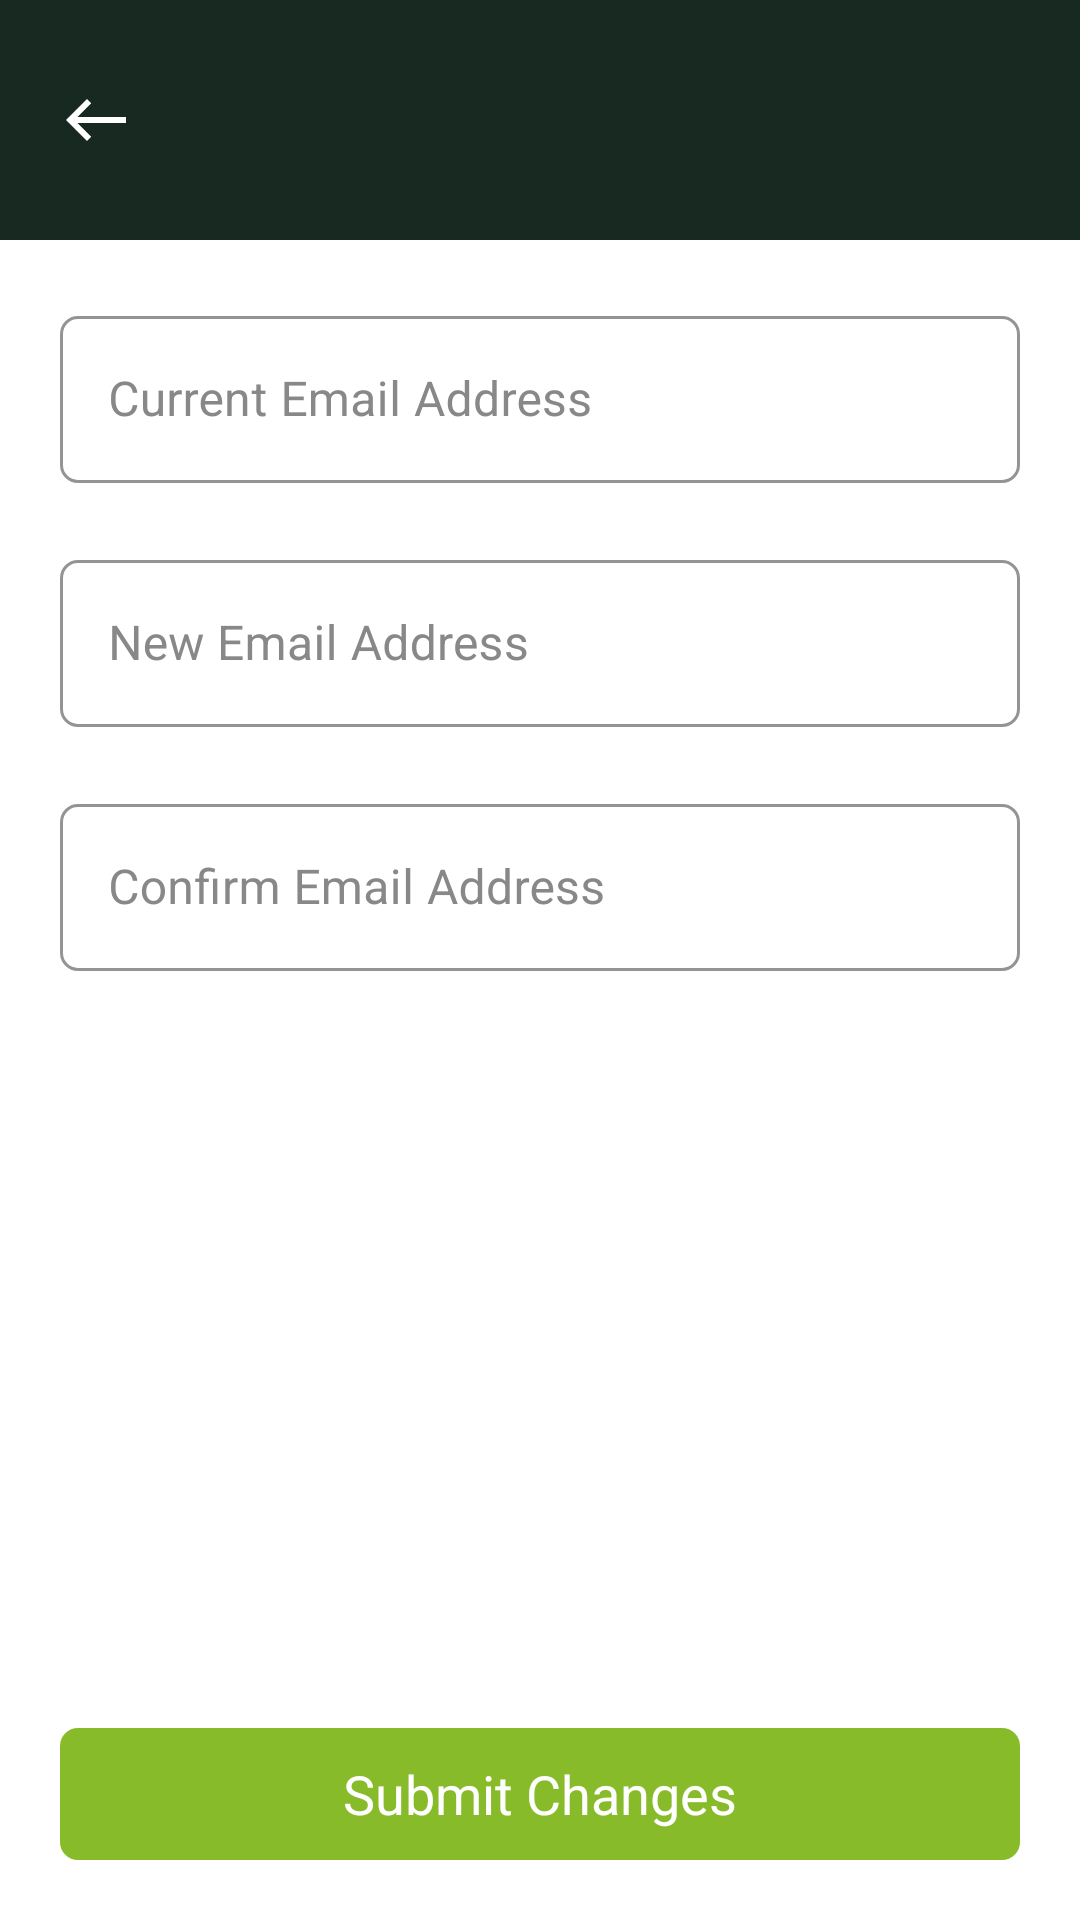

Named icons in this screenshot (1080px×1920px) and their bounding boxes, (x1,y1,x2,y2):
arrow back: (66,99,126,141)
